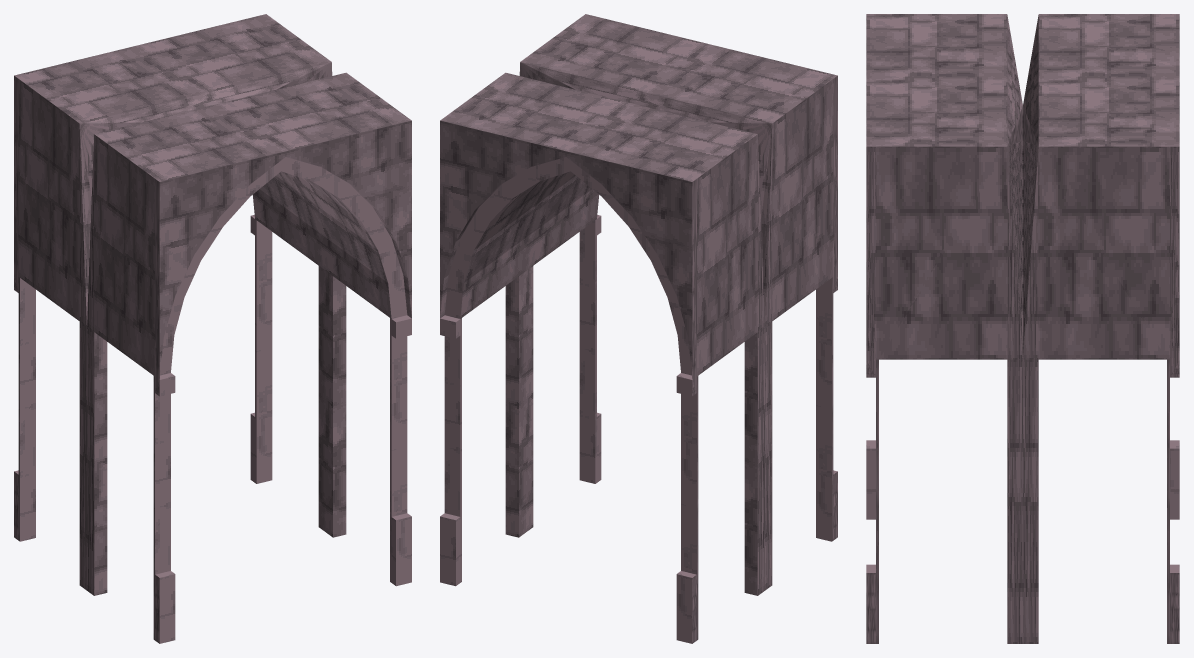
The model's file is door_frame_normal_a.glb.
The picture shows the model from 3 angles, left to right: view 1: azimuth 30°, elevation 25°; view 2: azimuth 150°, elevation 25°; view 3: azimuth 270°, elevation 25°; orthographic projection. The views are drawn at different scales.
Parts seen in each view (by area): view 1: portal_front, portal_back; view 2: portal_back, portal_front; view 3: portal_back, portal_front.
Boxes of the visible parts, left/top/right/bottom form: portal_front: left=87, top=72, right=411, bottom=643; portal_back: left=14, top=14, right=332, bottom=590; portal_back: left=440, top=72, right=764, bottom=643; portal_front: left=519, top=14, right=837, bottom=590; portal_back: left=1023, top=14, right=1179, bottom=643; portal_front: left=866, top=14, right=1022, bottom=643.
Size of the model in its own units: 2 by 3.5 by 2.
1 material, 1 textured.
